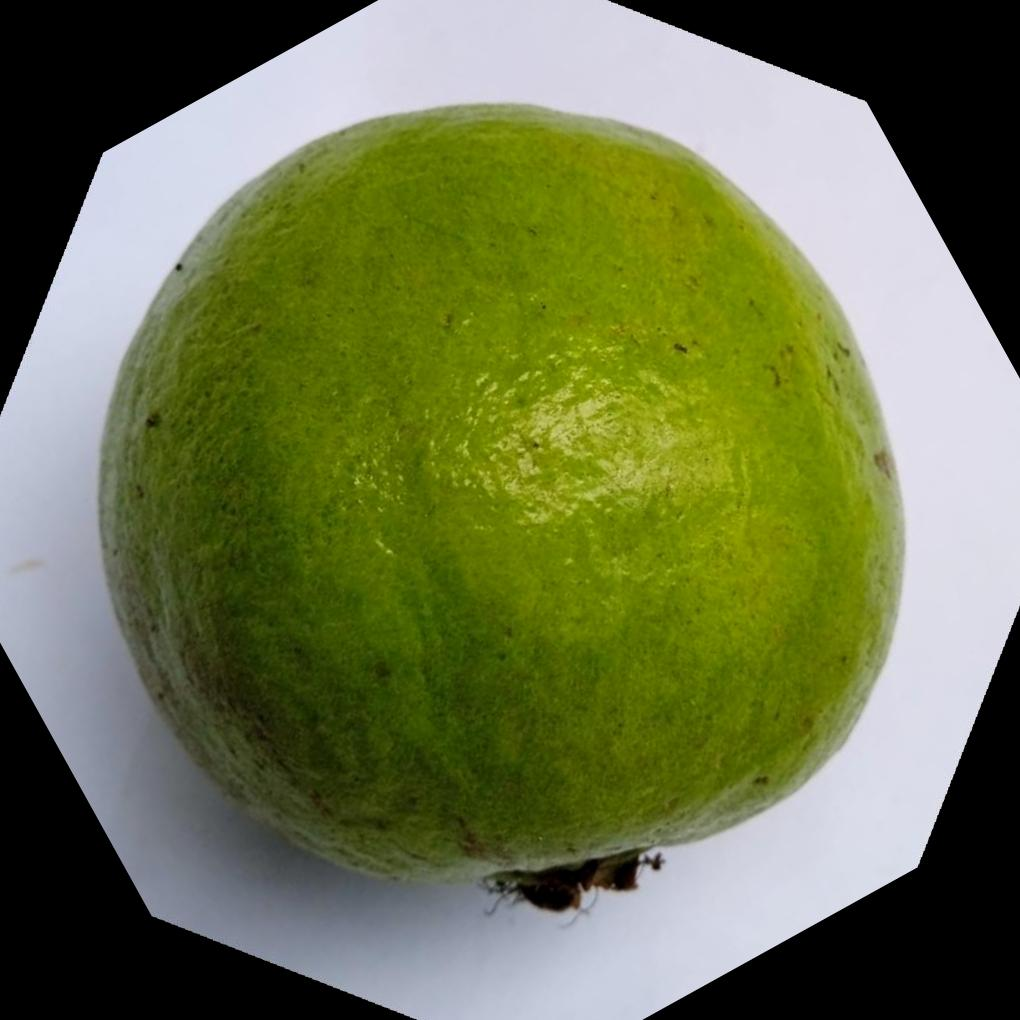FreshGuava: (96, 102, 910, 915)
